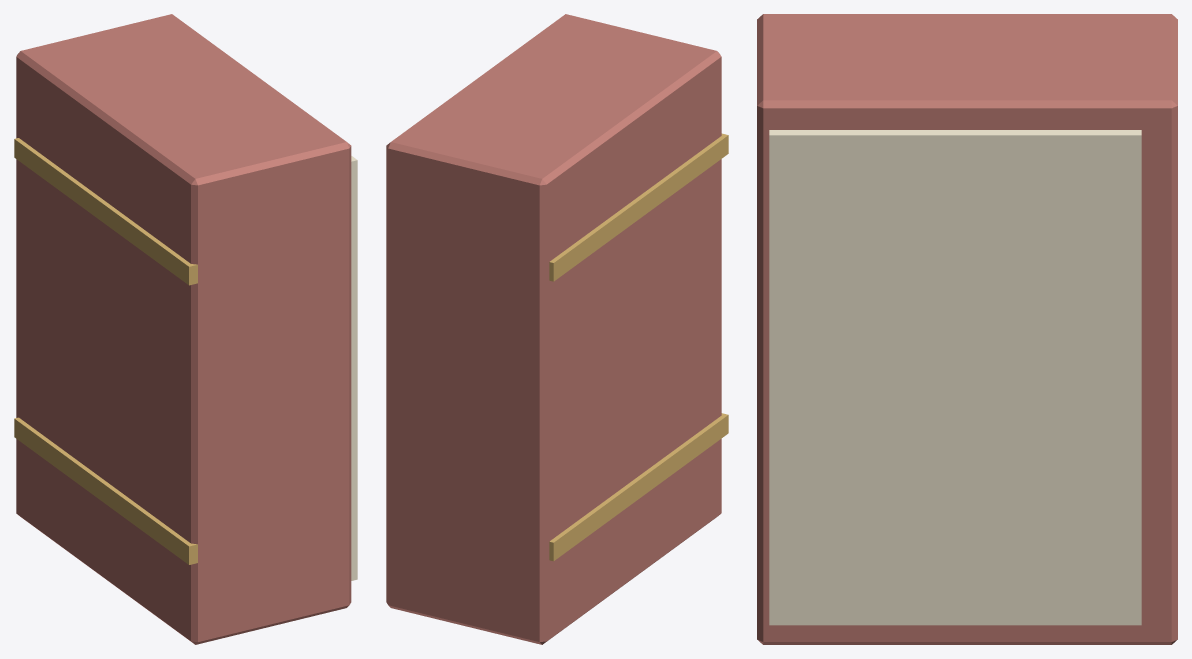
File: SM_CH_Paper_Book.fbx
3 views of the same model, side by side, from view 1: azimuth 30°, elevation 25°; view 2: azimuth 150°, elevation 25°; view 3: azimuth 270°, elevation 25° (orthographic). The views are drawn at different scales.
Parts seen in each view (by area): view 1: SM_CH_Paper_Book; view 2: SM_CH_Paper_Book; view 3: SM_CH_Paper_Book.
Part boxes in pixels (x1,y1,x2,y2): SM_CH_Paper_Book: (14, 14, 357, 644); SM_CH_Paper_Book: (386, 14, 728, 644); SM_CH_Paper_Book: (757, 14, 1177, 644).
Bounding box in the file's own units: 1950 × 3500 × 5000.
